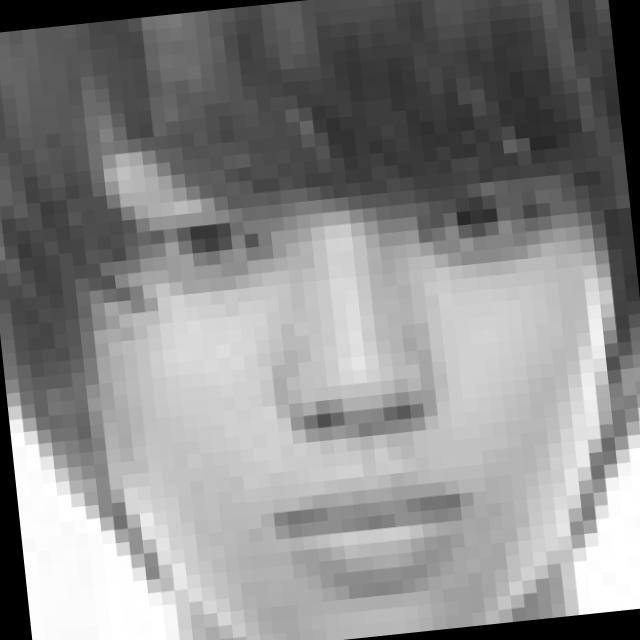neutral: (121, 130, 608, 629)
